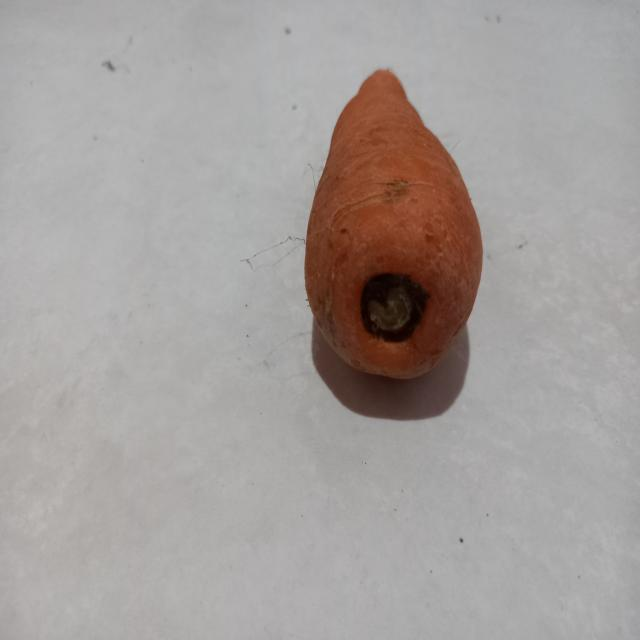carrot: (305, 70, 482, 378)
